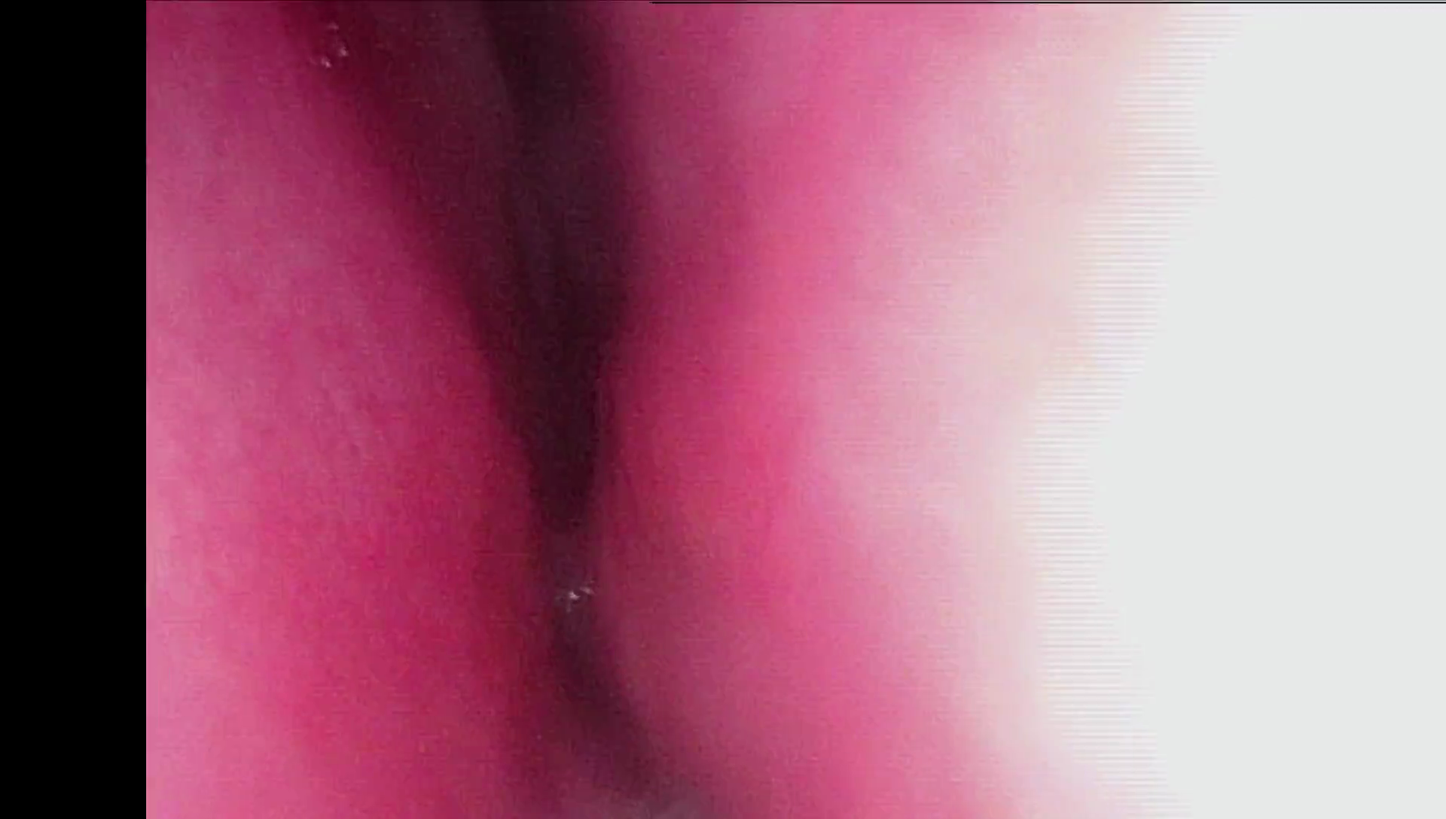close_wall: (816, 10, 1446, 819)
next: (445, 148, 661, 672)
